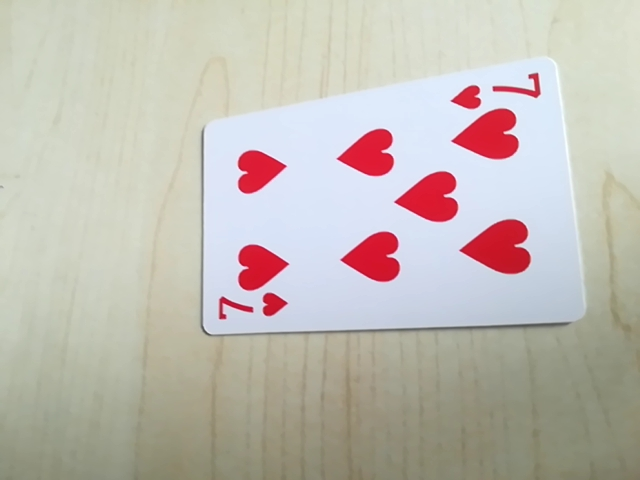hx 7: (447, 69, 551, 112), (211, 291, 292, 330)
